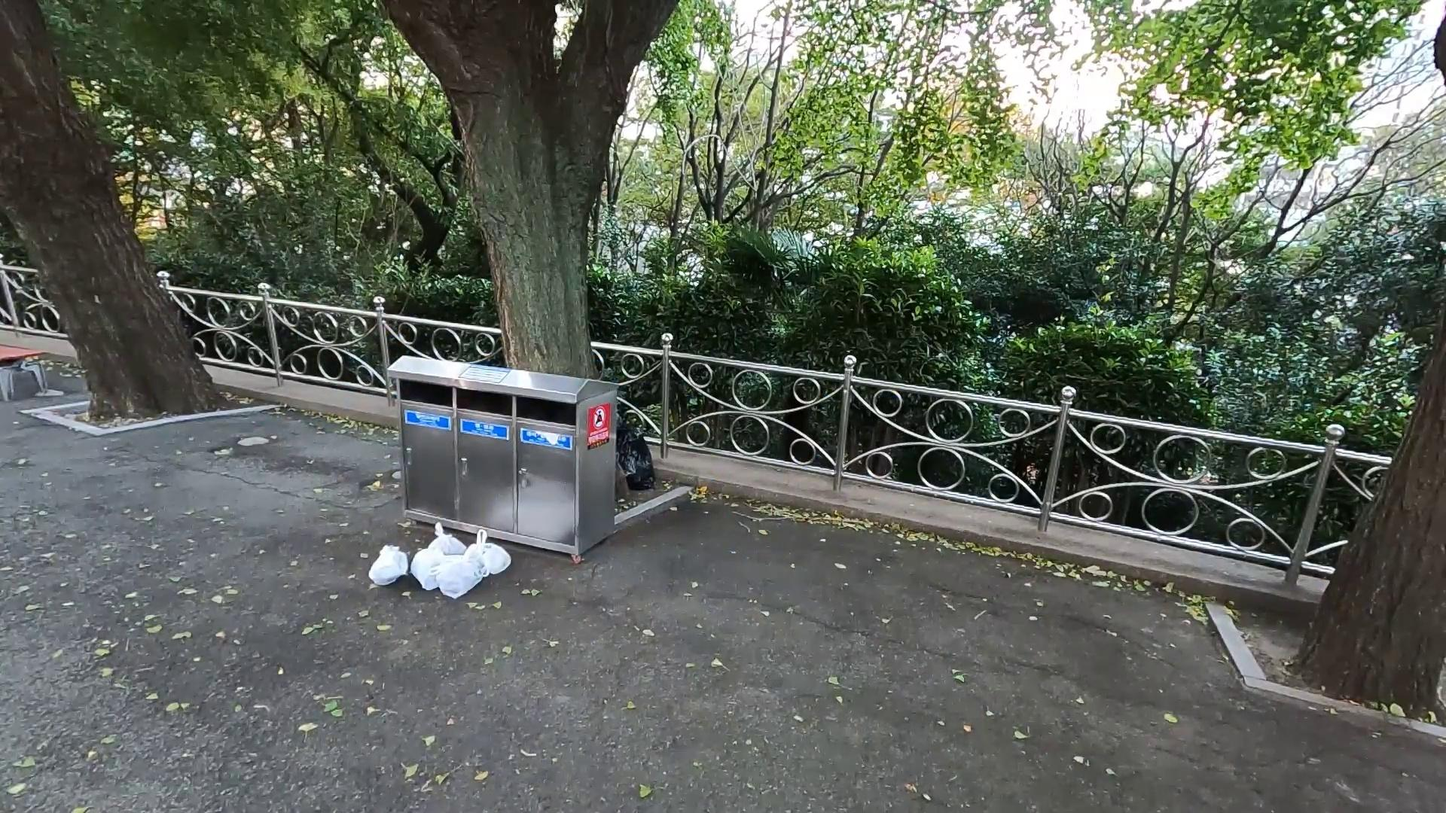trash: (616, 404, 658, 499), (431, 546, 491, 605), (453, 526, 515, 578), (413, 543, 462, 601), (424, 522, 470, 583), (365, 540, 407, 592)
